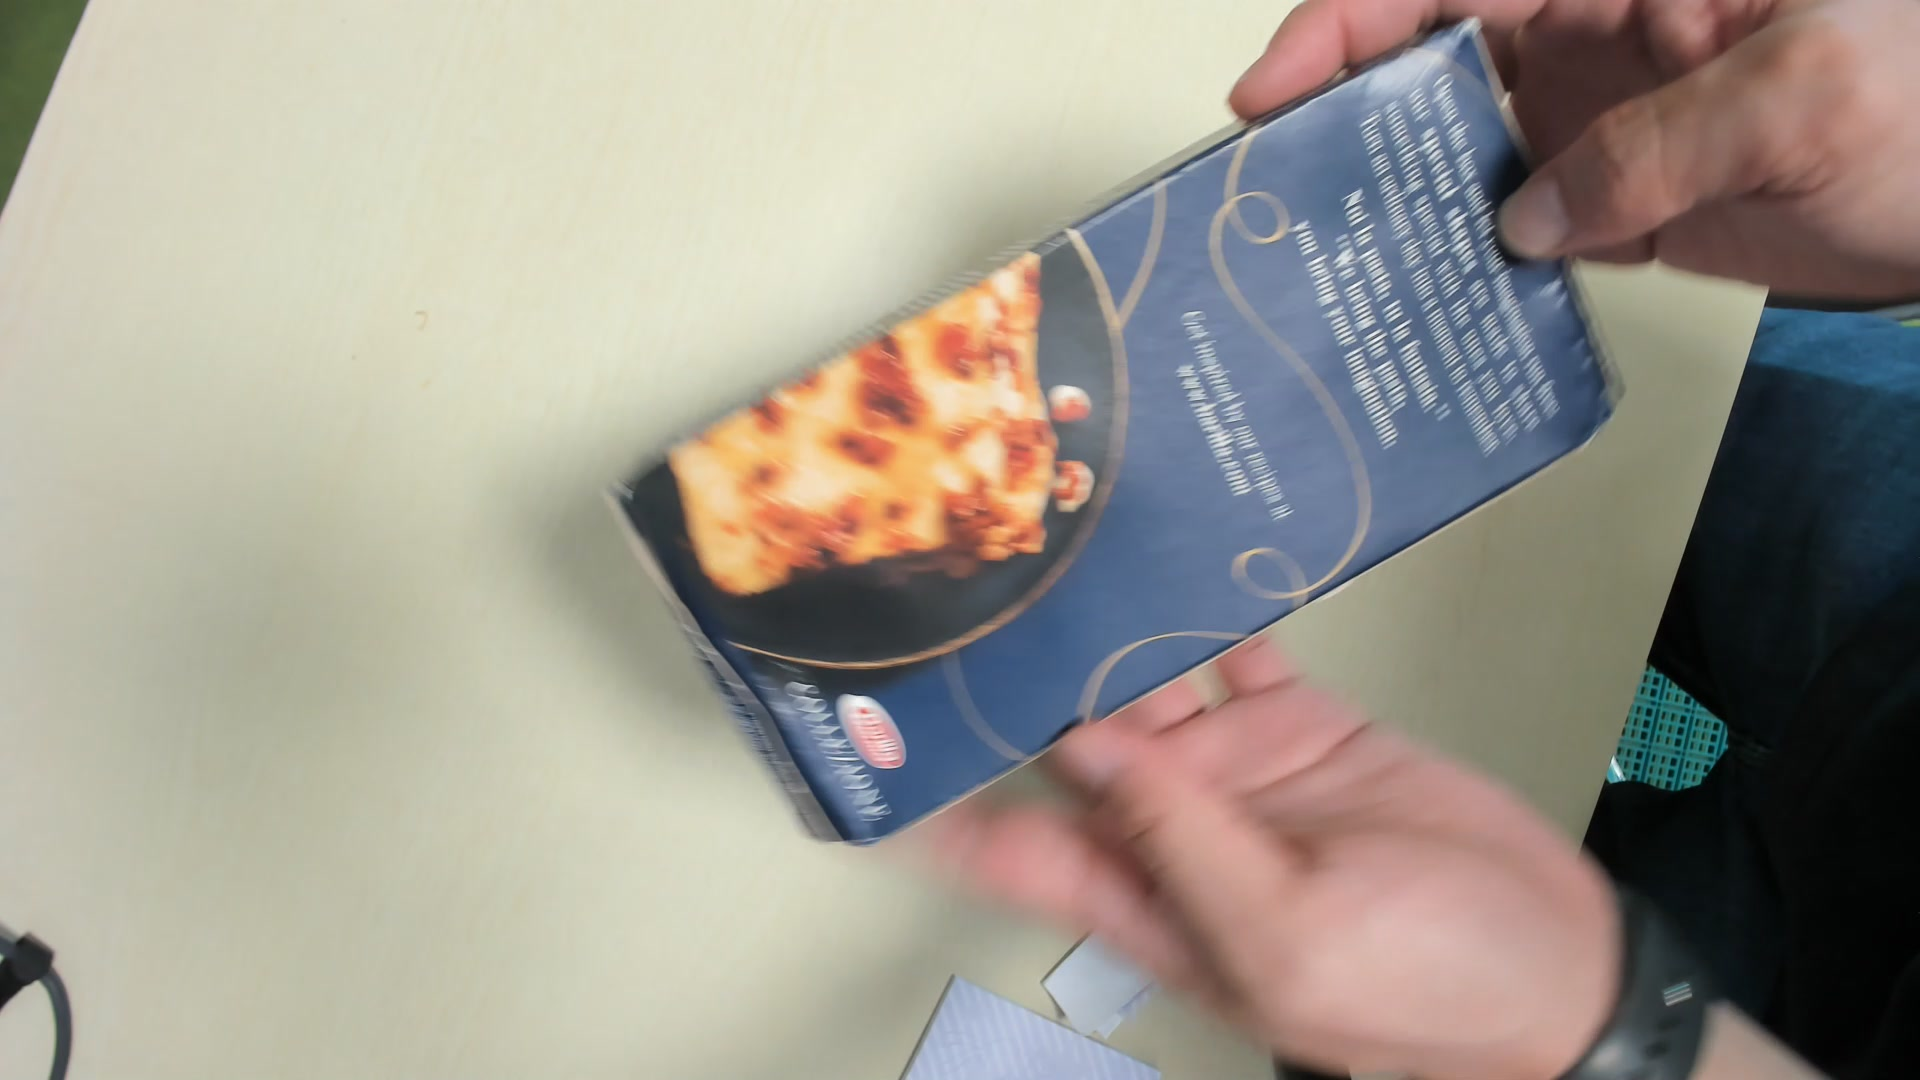InstantMeals_200_299g_NonHalal_NonHealthy: (608, 18, 1626, 848)
